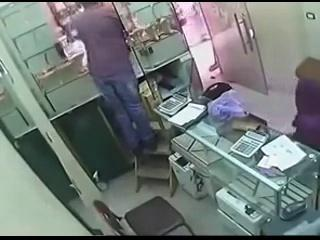Normal: (56, 3, 158, 155)
